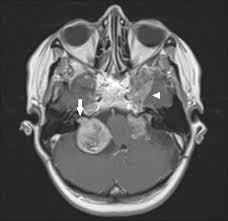Tumour-Meningioma: (71, 111, 121, 161)
